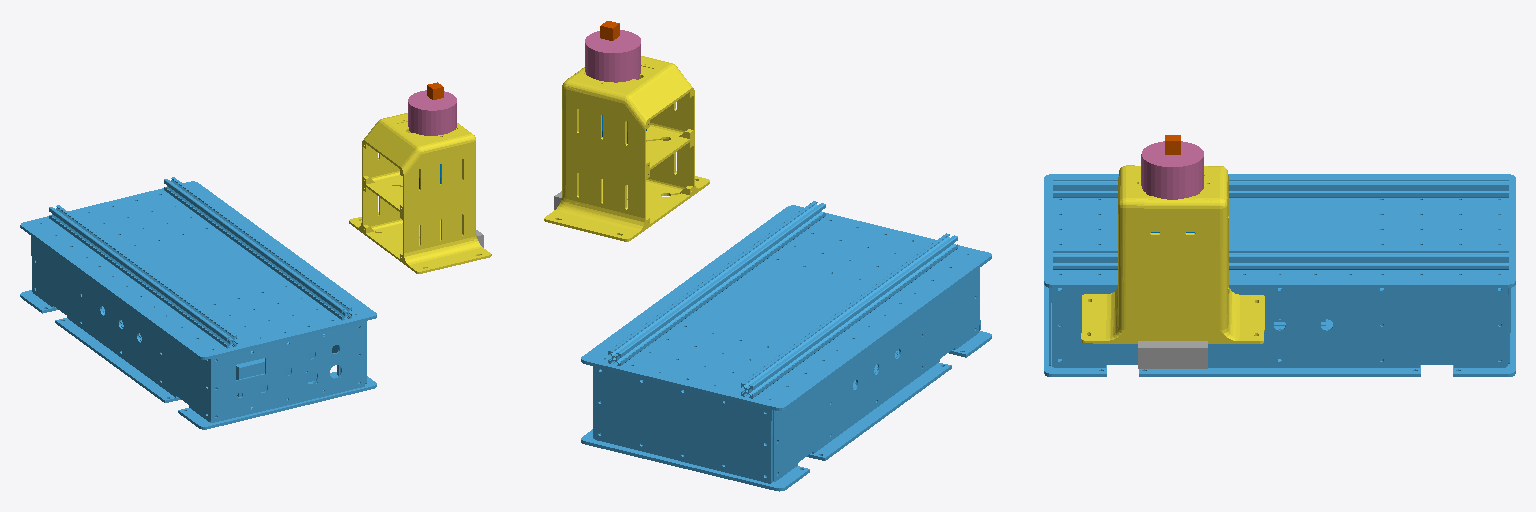
The robot description file, URDF, robot "mickrobot":
<?xml version="1.0"?>
<robot name="mickrobot" xmlns:xacro="http://ros.org/wiki/xacro">
  <link name="base_footprint">
    <visual>
      <geometry>
        <sphere radius="0.001" />  
      </geometry>
      <material name="invisible">
        <color rgba="0 0 0 0"/>  
      </material>
    </visual>
  </link>
<joint name="base_joint" type="fixed">
  <parent link="base_footprint"/>
  <child link="base_link"/>
  <!-- 假设 base_link 原点在车头，而几何中心在车辆后移 0.2 米且右移 0.1 米的位置 -->
  <origin xyz="0.0 0.0 0.0" rpy="0 0 0"/>
</joint>

  <!-- base -->
  <link name="base_link">
    <visual>
      <origin xyz="-0.3 -0.1665 0.0" rpy="0 0 0"/>
      <geometry>
        <mesh filename="package://mickrobot_description/urdf/mesh/mickx4_body.STL" scale="0.001 0.001 0.001"/>
      </geometry>
    </visual>

    <collision>
      <origin xyz="0.0 0.0 0.08" rpy="0 0 0"/>
      <geometry>
        <box size="0.6 0.333 0.16"/>
      </geometry>
    </collision>

    <inertial>
      <mass value="25"/>
      <origin xyz="0.0 0.0 0.08" rpy="0 0 0"/>
      <inertia 
        ixx="0.284" ixy="0" ixz="0"  
        iyy="0.803" iyz="0"           
        izz="0.981"/>
    </inertial>
  </link>

  
  <!-- right_back_wheel 0 -0.119 0.111-->
  <link   name="right_back_wheel">
    <visual>
      <origin xyz="0.12 0 -0.11" rpy="0 0 1.57079"/>
      <geometry>
        <mesh filename="package://mickrobot_description/urdf/mesh/mickx4_wheel_8inches-2.STL" scale="0.001 0.001 0.001"/>
      </geometry>
    </visual>

    <collision>
      <origin xyz="-0 0.04 0" rpy="0 1.57079 -1.57079"/>
      <geometry>
        <cylinder radius="0.1016" length="0.06"/>
      </geometry>
    </collision>
    
    <inertial>  
      <mass value="1"/>
      <origin xyz="-0. 0.04 0" rpy="0 1.57079 -1.57079"/>
      <inertia ixx="0.00288" ixy="0.0" ixz="0.0" iyy="0.00288" iyz="0.0" izz="0.00516"/>
    </inertial>
  </link>
 
  <joint   name="right_back_wheel_joint" type="continuous">
    <axis xyz="1 0 0"/>
    <parent   link="base_link"/>
    <child   link="right_back_wheel"/>
    <origin   xyz="-0.2 -0.24 0.0"/>
    <limit effort="100"   velocity="100"/>
  </joint>
  <!-- right_front_wheel -->
   
  <!-- left_back_wheel -->
  

  <!-- left_front_wheel -->
   
  <!-- sensor -->
  <link   name="sensor_link">
    <visual>
      <origin xyz="0 0 0" rpy="0 0 0"/>
      <geometry>
        <mesh filename="package://mickrobot_description/urdf/mesh/mickx4_sensorkit1.STL" scale="0.001 0.001 0.001"/>
      </geometry>
    </visual>

    <collision>
      <origin xyz="0.05 0.233 0" rpy="0 0 -1.57079 "/>
      <geometry>
        <mesh filename="package://mickrobot_description/urdf/mesh/mickx4_sensorkit.STL" scale="0.001 0.001 0.001"/>
      </geometry>
    </collision>

    <inertial>
      <mass value="1"/>
      <origin xyz="-0.12 -0.07 0.09" rpy="0 0 0"/>
      <inertia ixx="0.00333" ixy="0.0" ixz="0.0" iyy="0.00333" iyz="0.0" izz="0.00240"/>
    </inertial>
  </link>
 
  <joint   name="sensor_joint" type="fixed">  
    <parent   link="base_link"/>
    <child   link="sensor_link"/>
    <origin   xyz="0.09 -0.1165 0.16"/>
  </joint>
  

  <link name="imu_link">
    <visual>
    <origin xyz="0 0 0.0" rpy="0 0 0"/>
    <geometry>
          <box size="0.07 0.07 0.02"/>
    </geometry>
  </visual>

  <collision>
    <origin xyz="0.0 0.0 0.0" rpy="0.0 0.0 0.0"/>
    <geometry>
      <box size="0.07 0.07 0.02"/>
    </geometry>
  </collision>

  <inertial>
    <origin xyz="0.0 0.0 0.0" rpy="0.0 0.0 0.0"/>
    <mass value="0.5"/>
    <inertia ixx="3.333e-5" ixy="0.0" ixz="0.0" iyy="3.333e-5" iyz="0.0" izz="3.333e-5"/>
  </inertial>
  
  </link>

  <joint name="imu_joint" type="fixed">
    <parent link="base_link" />
    <child link="imu_link" />
    <origin xyz="0.23 0.0 0.27" rpy="0.0 0.0 0.0" />
  </joint>

  <!-- gnss -->
  <link name="gnss_link">
    <visual>
      <origin xyz="0 0 0.0" rpy="0 0 0"/>
      <geometry>
        <box size="0.02 0.02 0.02"/>
      </geometry>
    </visual>

    <collision>
      <origin xyz="0.0 0.0 0.0" rpy="0.0 0.0 0.0"/>
      <geometry>
        <box size="0.02 0.02 0.02"/>
      </geometry>
    </collision>

    <inertial>
      <origin xyz="0.0 0.0 0.0" rpy="0.0 0.0 0.0"/>
      <mass value="0.5"/>
      <inertia ixx="3.333e-5" ixy="0.0" ixz="0.0" iyy="3.333e-5" iyz="0.0" izz="3.333e-5"/>
    </inertial>
  
  </link>

  <joint name="gnss_joint" type="fixed">
    <parent link="base_link" />
    <child link="gnss_link" />
    <origin xyz="0.235 0.0 0.42" rpy="0.0 0.0 0.0" />
  </joint>

  <link name="laser_link">
    <visual>
      <origin xyz="0 0 0" rpy="0 0 0"/>
      <geometry>
        <cylinder length="0.05" radius="0.04"/>
      </geometry>
    </visual>

    <collision>
      <origin xyz="0 0 0" rpy="0 0 0"/>
      <geometry>
        <cylinder length="0.05" radius="0.04"/>
      </geometry>
    </collision>

    <inertial>
      <mass value="0.1"/>
      <inertia ixx="6.083e-5" ixy="0" ixz="0" iyy="6.083e-5" iyz="0" izz="8.0e-5"/>
    </inertial>
  </link>
  
  <joint name="laser_joint" type="fixed">
      <parent link="base_link" />
      <child link="laser_link" />
      <origin xyz="0.23 0.0 0.38" />
  </joint>
  <!-- camera -->
  <link name="camera_link">
    <visual>
      <origin xyz="0 0 0" rpy="0 0 0"/>
      <geometry>
        <box size="0.02 0.09 0.03"/>
      </geometry>
    </visual>
    
    <inertial>
      <mass value="0.1"/>
      <origin xyz="0 0 0" rpy="0 0 0"/>
      <inertia ixx="0.001" ixy="0" ixz="0" iyy="0.001" iyz="0" izz="0.001"/>
    </inertial>
       
    <collision>
      <origin xyz="0 0 0" rpy="0 0 0"/>
      <geometry>
        <box size="0.2 0.09 0.03"/>
      </geometry>
    </collision>
  </link>

  <joint name="camera_joint" type="fixed">
    <parent link="base_link"/>
    <child link="camera_link"/>
    <origin xyz="0.29 0.0 0.15" rpy="0 0 0"/>
  </joint>


</robot>

--- Render facts (derived) ---
The picture shows the robot from 3 angles, left to right: view 1: azimuth 30°, elevation 25°; view 2: azimuth 150°, elevation 25°; view 3: azimuth 270°, elevation 25°; orthographic projection.
Model mickrobot with 8 links and 7 joints (1 continuous, 6 fixed), rooted at base_footprint, posed every joint at zero.
Links seen in each view (by area): view 1: base_link, sensor_link, laser_link; view 2: base_link, sensor_link, laser_link; view 3: base_link, sensor_link, laser_link, camera_link.
Link boxes in pixels (box(x1,y1,x2,y2)): base_link: box(20, 177, 376, 429); sensor_link: box(349, 113, 491, 273); laser_link: box(408, 90, 456, 135); base_link: box(581, 201, 991, 491); sensor_link: box(544, 56, 709, 241); laser_link: box(585, 30, 640, 82); base_link: box(1044, 174, 1515, 376); sensor_link: box(1081, 165, 1264, 343); laser_link: box(1141, 141, 1203, 199); camera_link: box(1138, 341, 1207, 368).
Bounding box of the posed robot: 0.5983 × 0.6 × 0.431 m (x, y, z).
Meshes: 3 distinct files referenced, 2 mesh visuals loaded (2 binary STL); not drawn: 1 (reference not matched to a file when rendering).
